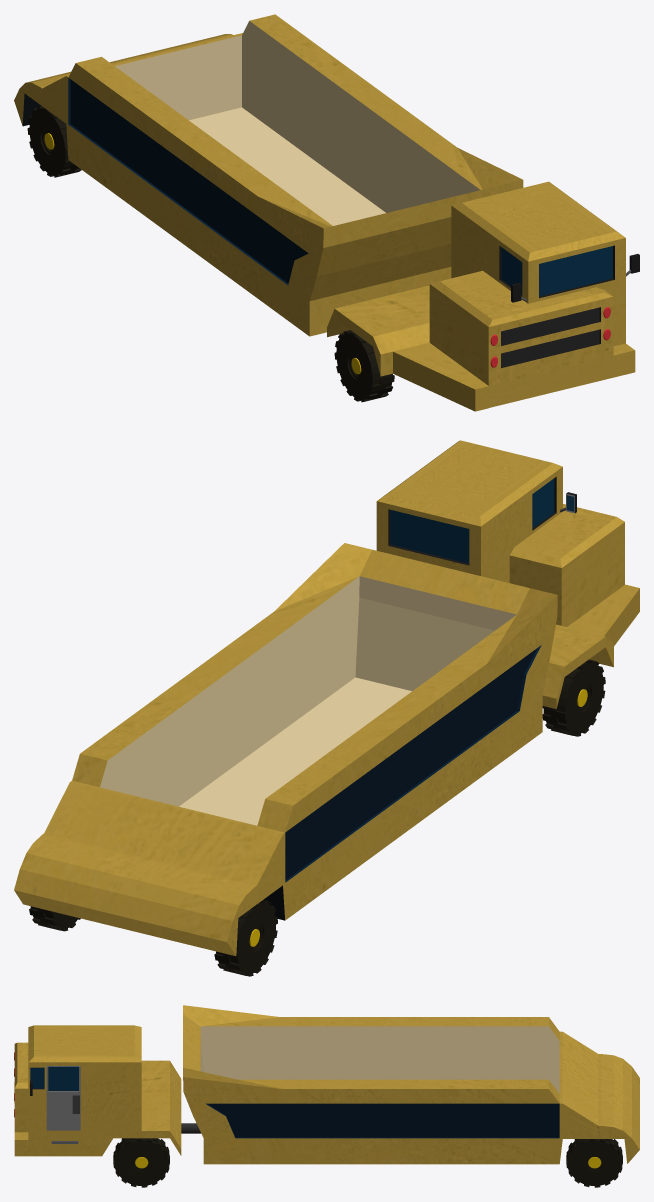
File: truck.obj
3 views of the same model, one above another, from view 1: azimuth 30°, elevation 25°; view 2: azimuth 150°, elevation 25°; view 3: azimuth 270°, elevation 25° (orthographic). The views are drawn at different scales.
Parts seen in each view (by area): view 1: truck; view 2: truck; view 3: truck.
Part boxes in pixels (<box>): truck: <box>14,14,639,411</box>; truck: <box>14,440,639,976</box>; truck: <box>14,1005,639,1187</box>.
Bounding box in the file's own units: 3.18 × 2.5 × 10.98.
